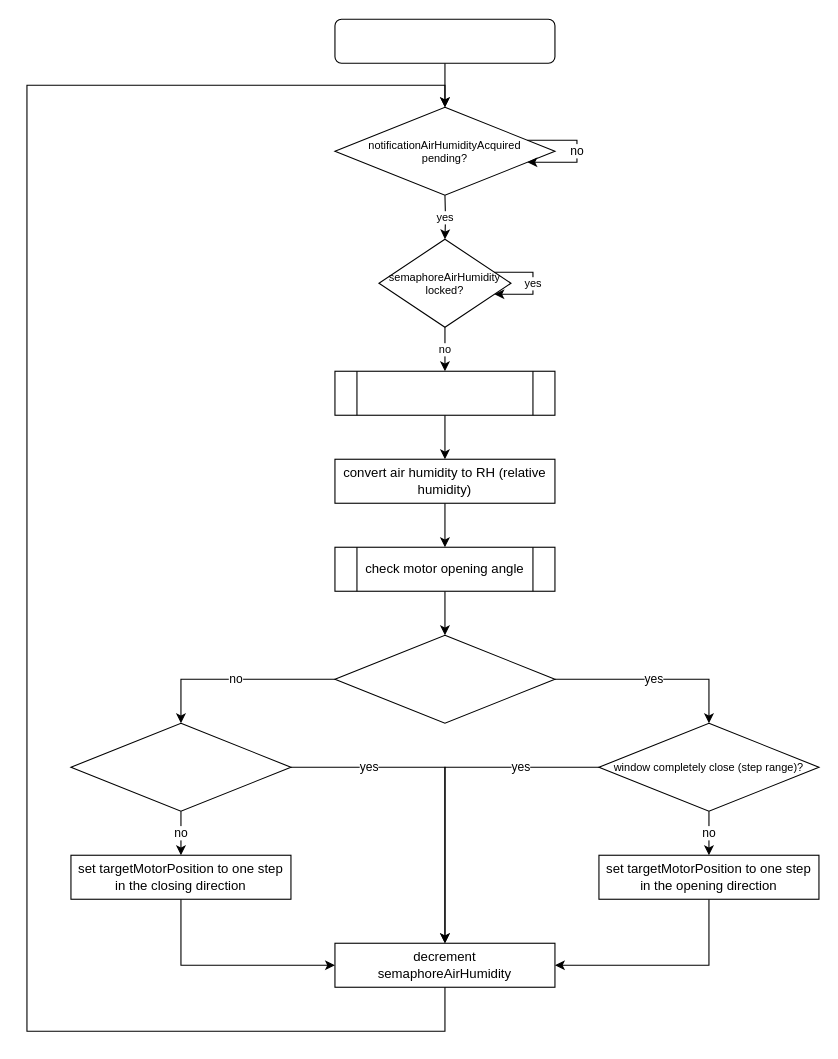
The diagram is 838 pixels wide and 1059 high, and some of its shapes have lost their labels. Each missing label, with the box of its shape:
air humidity < ref air humidity?: (334, 634, 555, 723)
take air humidity from airHumidityBuffer: (334, 370, 555, 415)
taskProcessAirHumidity: (334, 18, 555, 63)
window completely open (step range)?: (70, 722, 291, 811)
